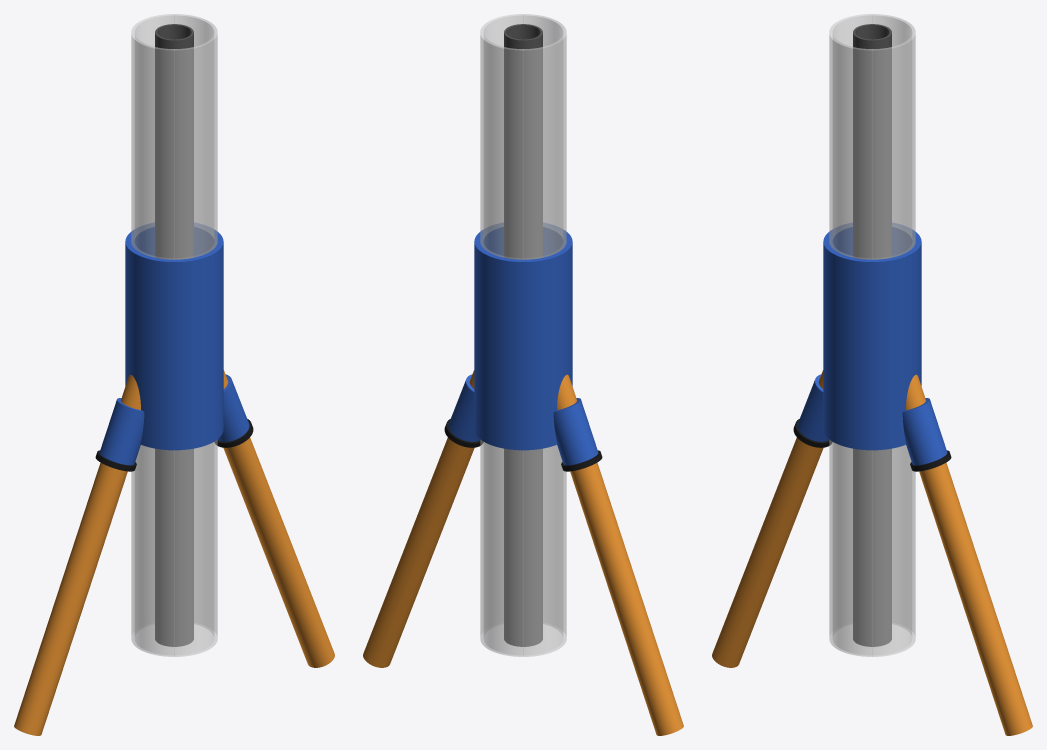
3 views of the same model, side by side, from view 1: azimuth 30°, elevation 25°; view 2: azimuth 150°, elevation 25°; view 3: azimuth 330°, elevation 25° (orthographic).
Visible parts, largest first — view 1: coupling_with_sleeves, pipe_above, pipe_below, spine_tube, leg_-1, leg_1; view 2: coupling_with_sleeves, pipe_above, pipe_below, spine_tube, leg_-1, leg_1; view 3: coupling_with_sleeves, pipe_above, pipe_below, spine_tube, leg_1, leg_-1.
Boxes of the visible parts, <box> form: coupling_with_sleeves: <box>99,223,249,465</box>; pipe_above: <box>131,14,217,259</box>; pipe_below: <box>131,440,217,656</box>; spine_tube: <box>155,24,193,646</box>; leg_-1: <box>14,374,140,735</box>; leg_1: <box>223,370,334,667</box>; coupling_with_sleeves: <box>448,223,598,465</box>; pipe_above: <box>480,14,566,259</box>; pipe_below: <box>480,440,566,656</box>; spine_tube: <box>504,24,542,646</box>; leg_-1: <box>557,374,683,735</box>; leg_1: <box>363,370,474,667</box>; coupling_with_sleeves: <box>797,223,947,465</box>; pipe_above: <box>829,14,915,259</box>; pipe_below: <box>829,440,915,656</box>; spine_tube: <box>853,24,891,646</box>; leg_1: <box>906,374,1032,735</box>; leg_-1: <box>712,370,823,667</box>.
Size of the model in its own units: 317 by 638 by 85.
